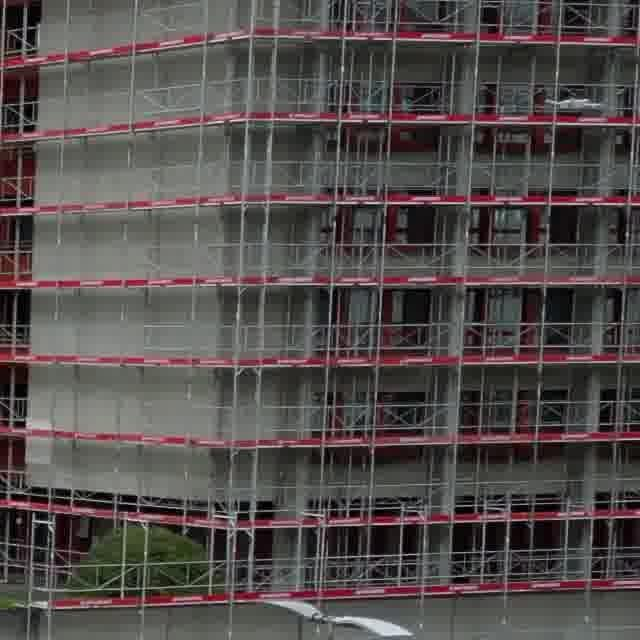Drohne: (545, 99, 601, 110)
